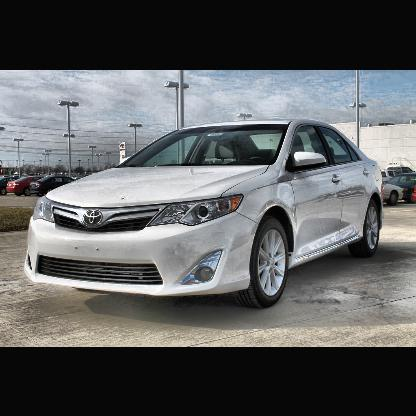Toyota Camry Sedan 2012: (23, 119, 383, 309)
